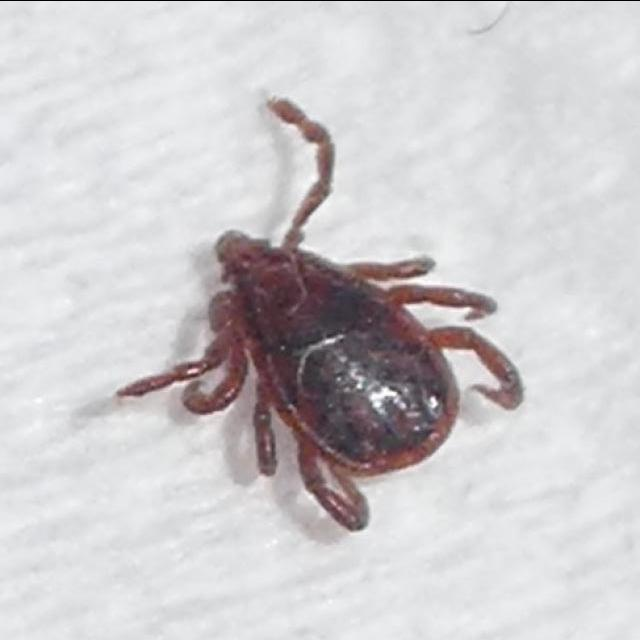Rhipicephalus Sanguineus-M: (114, 95, 523, 533)
